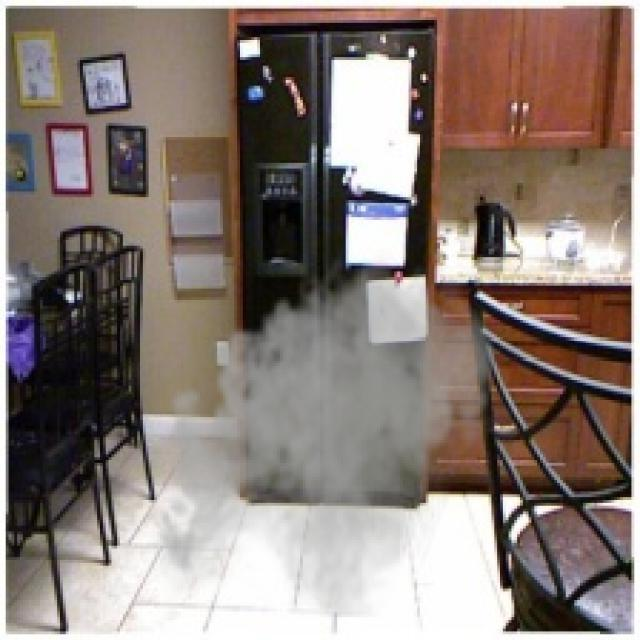Smoke: (146, 248, 503, 618)
